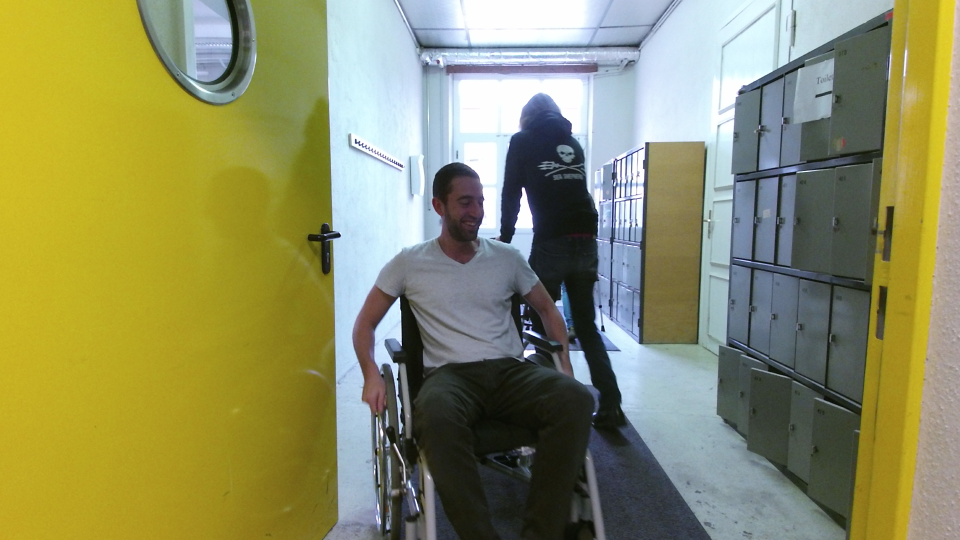wheelchair: (341, 155, 599, 540)
